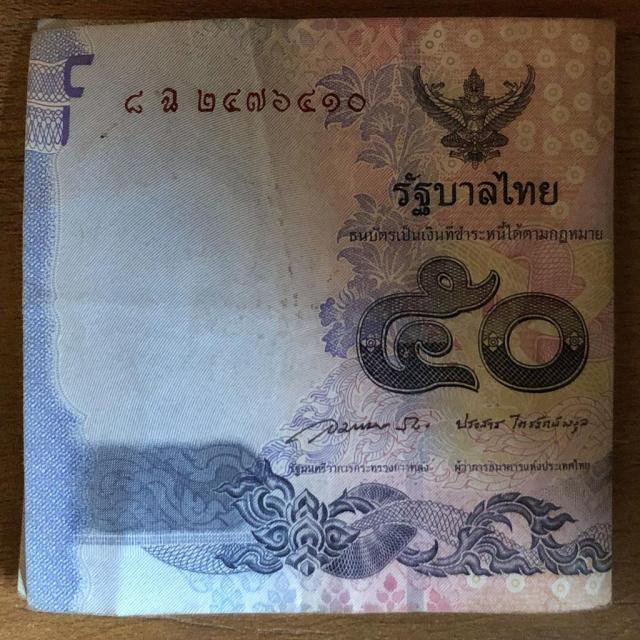THAI50: (18, 18, 615, 616)
